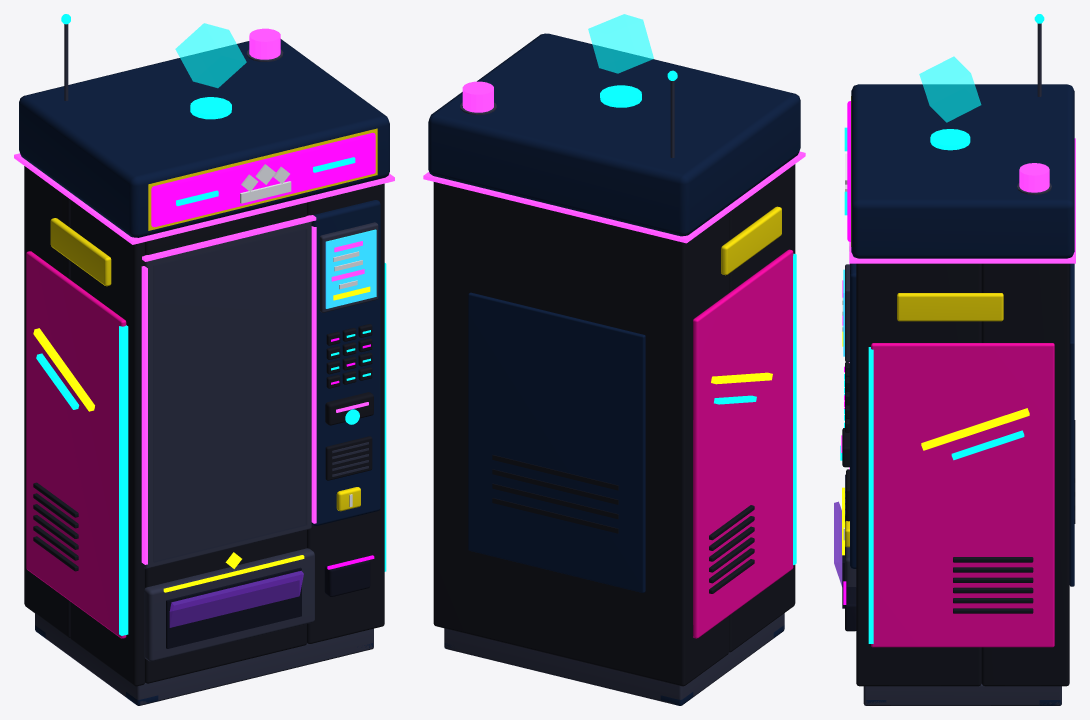
Rendered from Maquina.fbx.
The picture shows the model from 3 angles, left to right: view 1: azimuth 30°, elevation 25°; view 2: azimuth 150°, elevation 25°; view 3: azimuth 270°, elevation 25°; orthographic projection. The views are drawn at different scales.
Visible parts, largest first — view 1: Maquina_Cuerpo, Holograma, Pantalla, Baliza; view 2: Maquina_Cuerpo, Holograma, Baliza; view 3: Maquina_Cuerpo, Holograma, Baliza.
Boxes of the visible parts, bbox=[...] form: Maquina_Cuerpo: bbox=[14, 24, 394, 705]; Holograma: bbox=[175, 23, 246, 87]; Pantalla: bbox=[325, 229, 376, 308]; Baliza: bbox=[249, 28, 280, 59]; Maquina_Cuerpo: bbox=[423, 33, 805, 705]; Holograma: bbox=[588, 14, 653, 73]; Baliza: bbox=[462, 81, 493, 112]; Maquina_Cuerpo: bbox=[834, 23, 1075, 705]; Holograma: bbox=[919, 56, 981, 122]; Baliza: bbox=[1019, 163, 1049, 192].
Bounding box in the file's own units: 119 × 261 × 96.32.
